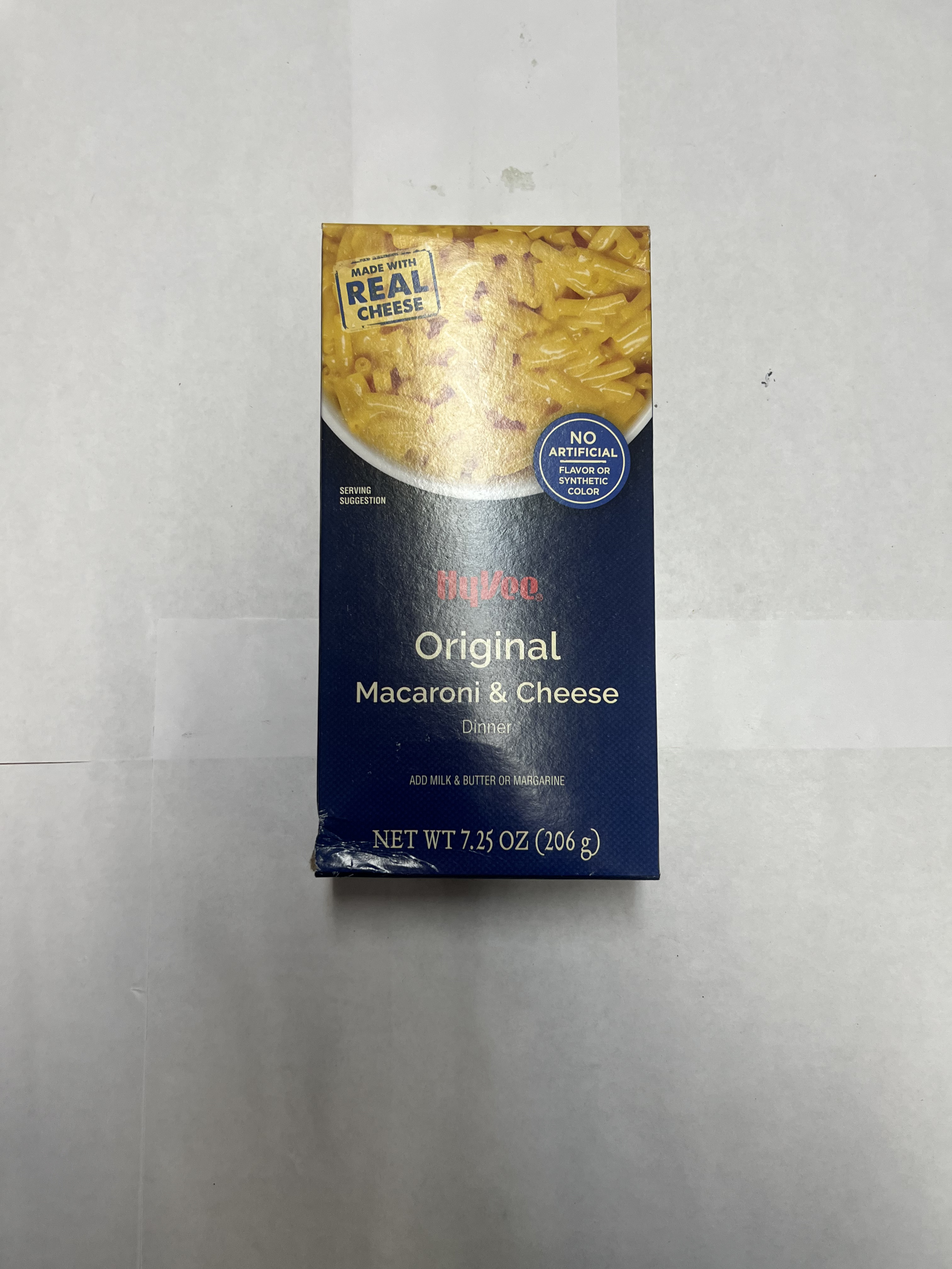packaged: (309, 216, 667, 889)
